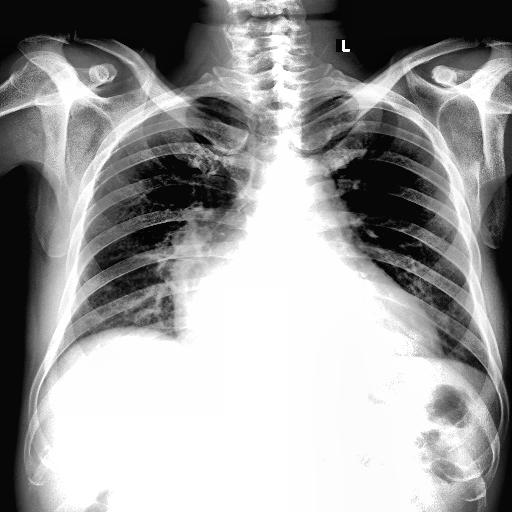3- Cardiomegaly: (162, 248, 440, 359), (168, 266, 440, 354), (172, 296, 442, 358)
7- Lung Opacity: (168, 235, 232, 290)
9- Other lesion: (168, 235, 232, 290)
